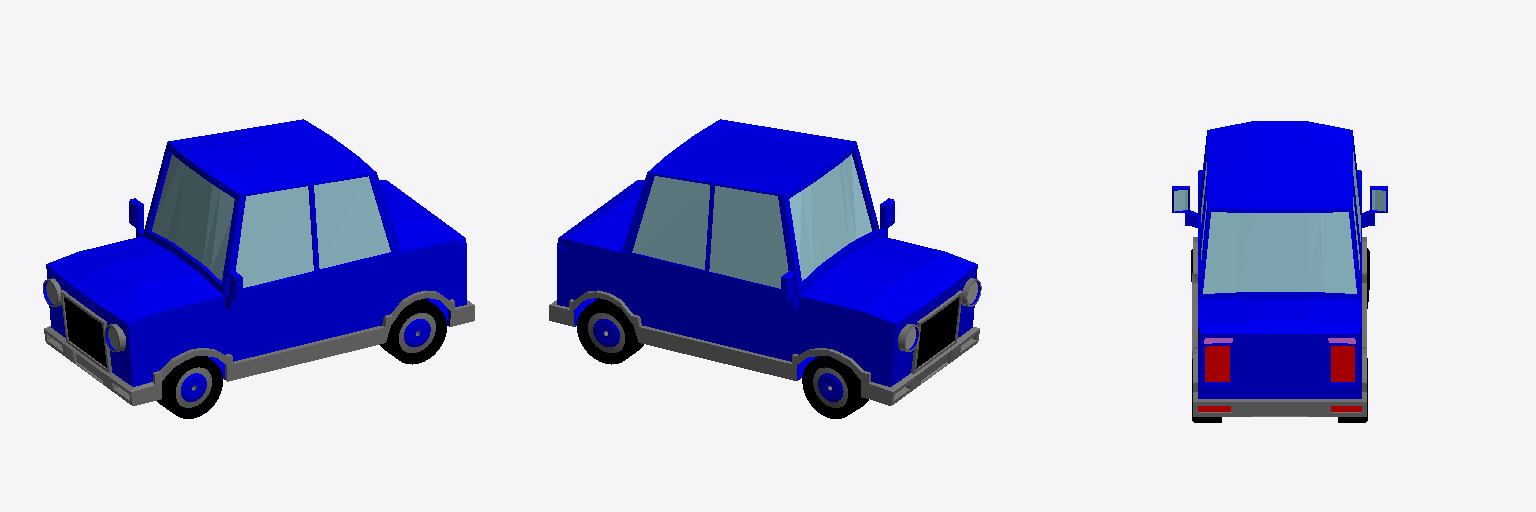
Rendered from car2.obj.
The picture shows the model from 3 angles: view 1: azimuth 30°, elevation 25°; view 2: azimuth 150°, elevation 25°; view 3: azimuth 270°, elevation 25°; orthographic projection.
Parts seen in each view (by area): view 1: Cube; view 2: Cube; view 3: Cube.
Boxes of the visible parts, x1=… form: Cube: x1=43, y1=119, x2=474, y2=418; Cube: x1=549, y1=119, x2=981, y2=418; Cube: x1=1172, y1=121, x2=1387, y2=422.
Size of the model in its own units: 5.97 by 3.44 by 3.18.